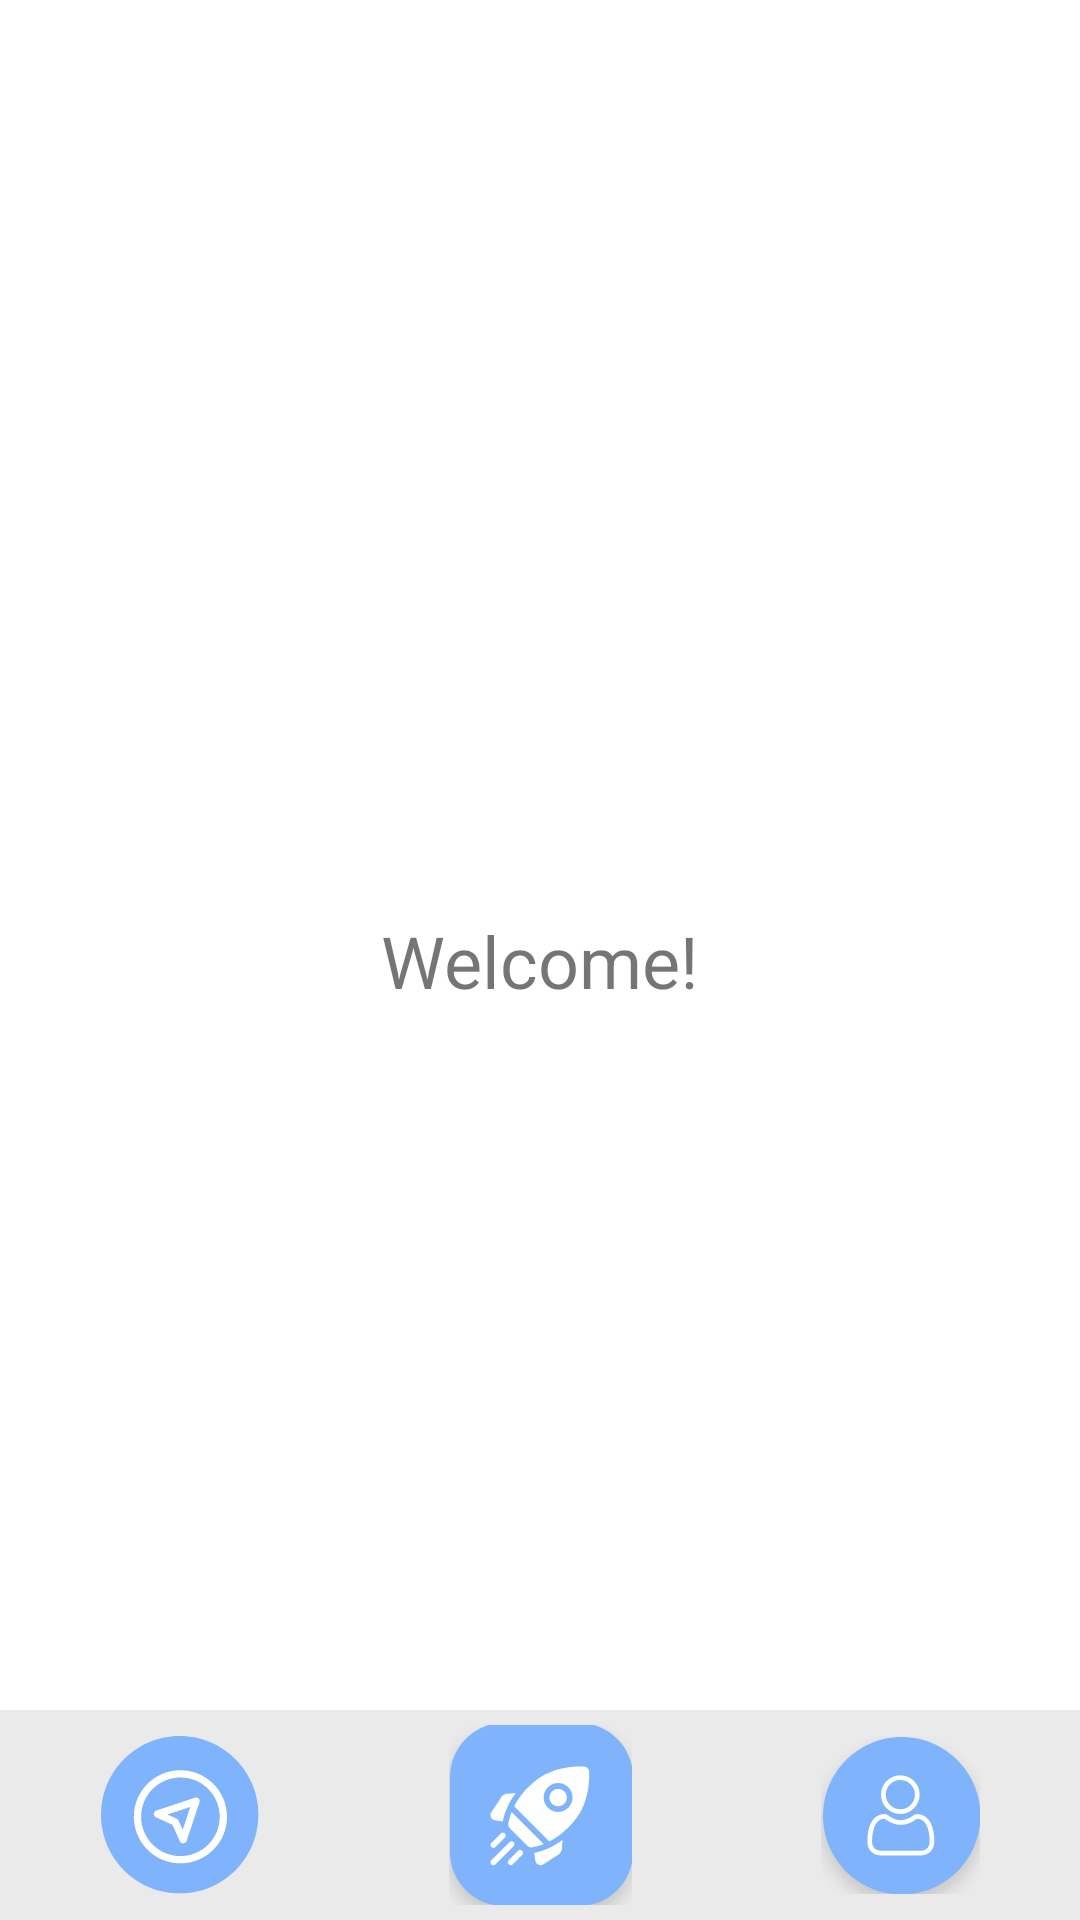

Named icons in this screenshot (1080*1920) and their bounding boxes, Rect(x1, y1, x2, y2):
map: Rect(101, 1736, 259, 1894)
profile: Rect(823, 1737, 980, 1894)
start buttom: Rect(450, 1725, 632, 1905)
